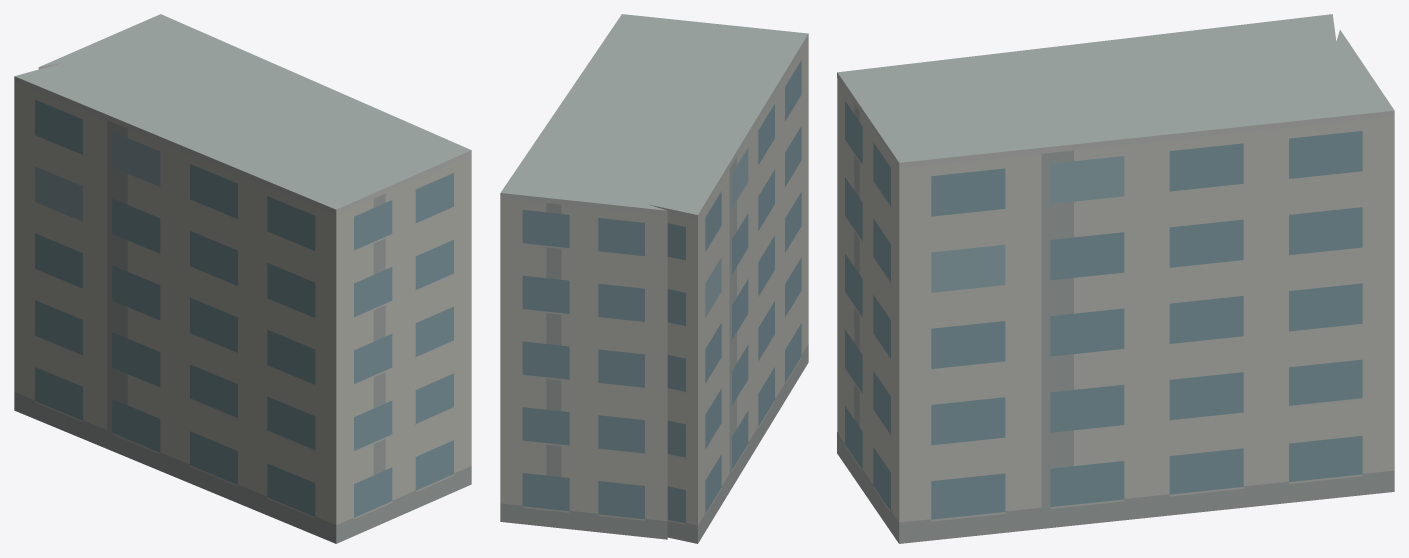
Rendered from survey-upis-33044435.glb.
3 views of the same model, side by side, from view 1: azimuth 30°, elevation 25°; view 2: azimuth 150°, elevation 25°; view 3: azimuth 270°, elevation 25° (orthographic). The views are drawn at different scales.
Parts seen in each view (by area): view 1: survey-upis-33044435.tmp; view 2: survey-upis-33044435.tmp; view 3: survey-upis-33044435.tmp.
Boxes of the visible parts, x1,y1,x2,y2 form: survey-upis-33044435.tmp: (14,14,471,543); survey-upis-33044435.tmp: (500,14,808,543); survey-upis-33044435.tmp: (837,14,1394,543).
Size of the model in its own units: 12.77 by 15.25 by 20.22.
